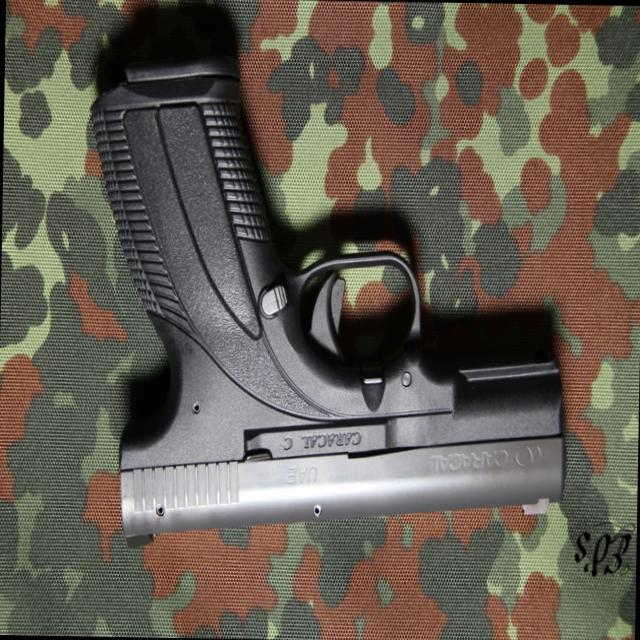Gun: (69, 21, 596, 558)
